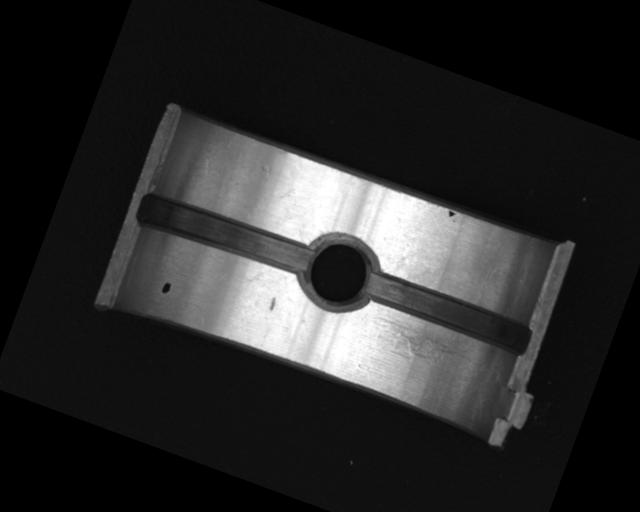blot: (160, 279, 172, 295), (446, 208, 458, 220)
bruise: (266, 295, 278, 313)
gap: (132, 185, 317, 286), (360, 265, 535, 359)
hole: (290, 223, 385, 323)
scratch: (363, 306, 478, 377)
